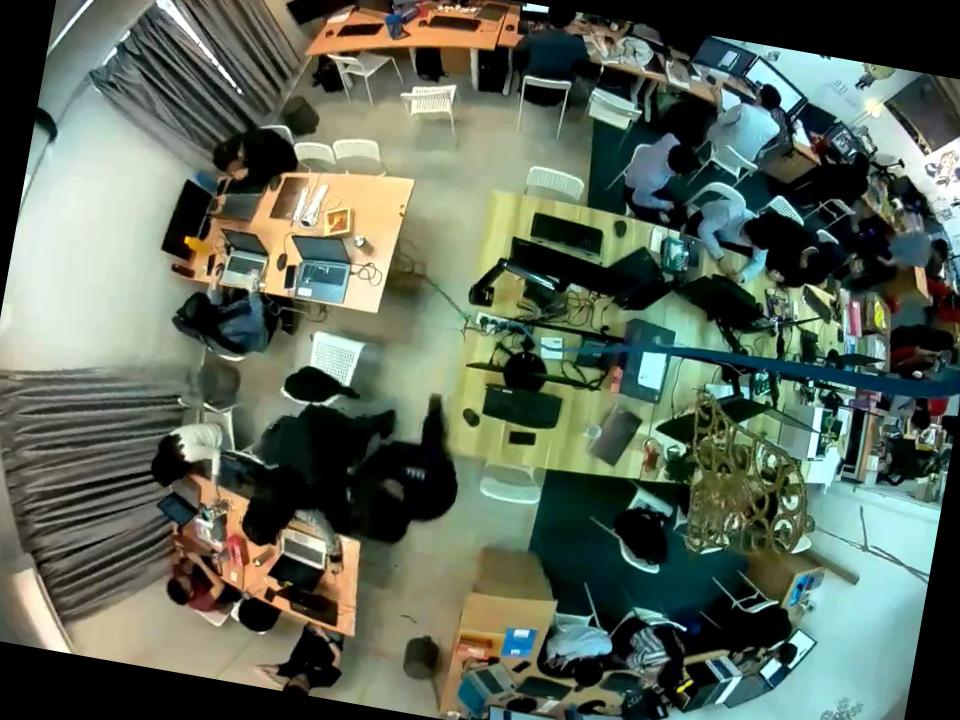employee_tag: (402, 464, 428, 485)
